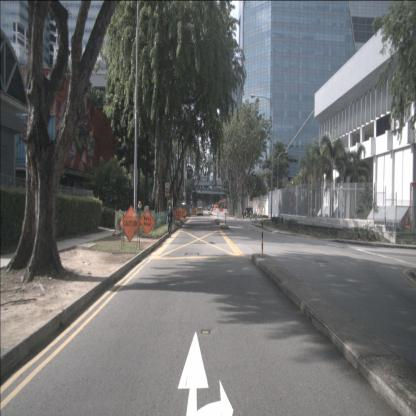barrier: (223, 208, 228, 213), (220, 208, 224, 213), (216, 208, 219, 213)
